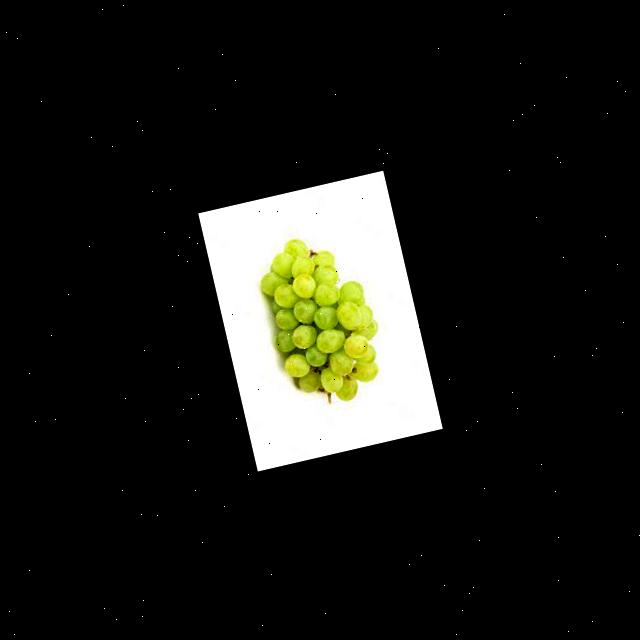grape: (252, 224, 394, 412)
